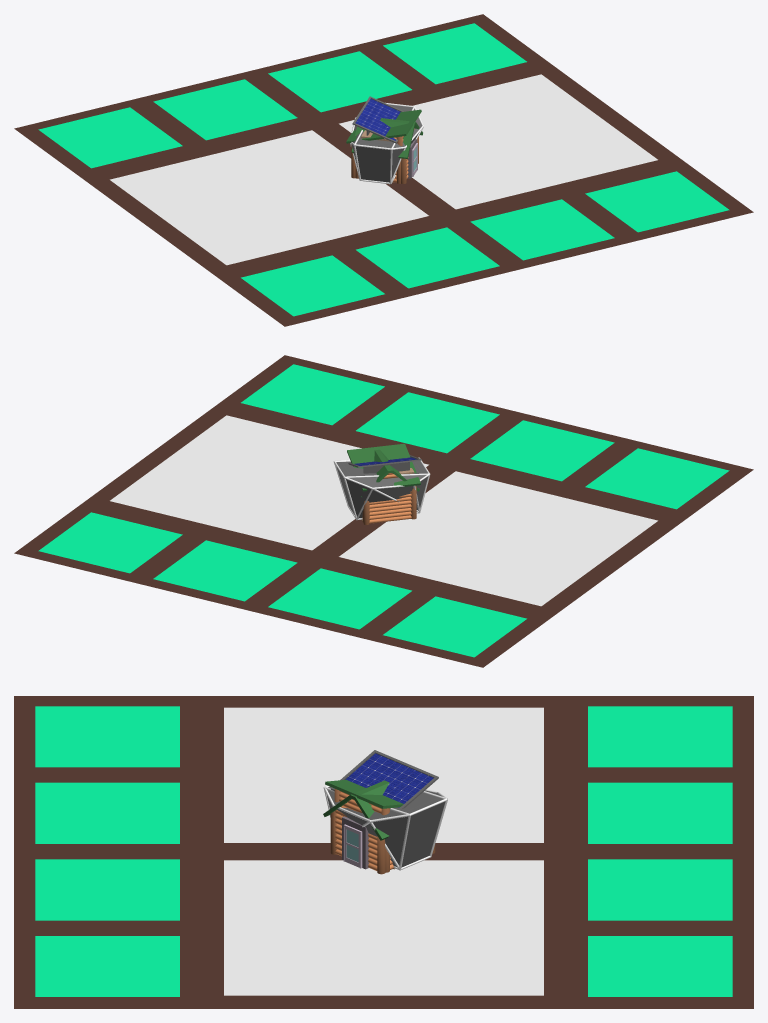
3 views of the same model, one above another, from view 1: azimuth 30°, elevation 25°; view 2: azimuth 150°, elevation 25°; view 3: azimuth 270°, elevation 25° (orthographic). The views are drawn at different scales.
Parts seen in each view (by area): view 1: Common, BasicLand, Plot07, Plot02, Plot04, Plot05, Plot06, Plot08, Plot01, Plot03, House_JUPE, House_TinyBox (+2 smaller); view 2: Common, BasicLand, Plot03, Plot01, Plot02, Plot04, Plot06, Plot07, Plot08, Plot05, House_JUPE, House_Cabin2 (+1 smaller); view 3: Common, BasicLand, Plot01, Plot02, Plot03, Plot05, Plot06, Plot07, Plot04, Plot08, House_JUPE, House_Cabin1 (+2 smaller).
Part boxes in pixels (x1,y1,x2,y2): Common: (110,74,657,265); BasicLand: (14,14,753,326); Plot07: (470,199,614,260); Plot02: (153,79,297,140); Plot04: (383,23,526,84); Plot05: (241,255,384,316); Plot06: (356,227,499,288); Plot08: (585,171,729,232); Plot01: (38,107,182,168); Plot03: (268,51,411,112); House_JUPE: (350,102,423,184); House_TinyBox: (352,96,403,182); Common: (110,415,657,606); BasicLand: (14,355,753,667); Plot03: (153,540,297,601); Plot01: (383,596,526,657); Plot02: (268,568,411,629); Plot04: (38,512,182,573); Plot06: (470,420,614,481); Plot07: (356,392,499,453); Plot08: (241,364,384,425); Plot05: (585,448,729,509); House_JUPE: (333,457,430,520); House_Cabin2: (347,443,420,524); Common: (224,707,543,995); BasicLand: (14,696,753,1008); Plot01: (588,706,732,767); Plot02: (588,782,732,843); Plot03: (588,859,732,920); Plot05: (35,706,179,767); Plot06: (35,782,179,843); Plot07: (35,859,179,920); Plot04: (588,936,732,996); Plot08: (35,936,179,996); House_JUPE: (323,785,447,870); House_Cabin1: (323,780,392,874).
Bounding box in the file's own units: 20 × 2.37 × 20.
4 materials, 2 textured.
